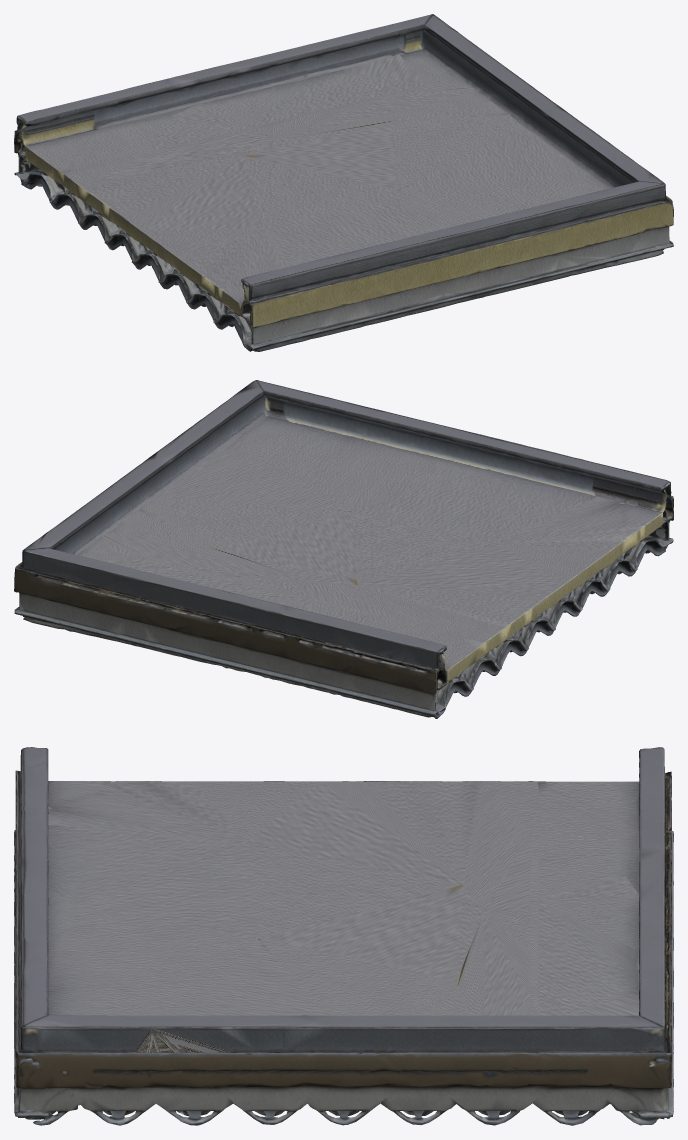
File: Env_RoofPanel.fbx
The picture shows the model from 3 angles, top to bottom: view 1: azimuth 30°, elevation 25°; view 2: azimuth 150°, elevation 25°; view 3: azimuth 270°, elevation 25°; orthographic projection. The views are drawn at different scales.
Visible parts, largest first — view 1: Env_RoofPanel; view 2: Env_RoofPanel; view 3: Env_RoofPanel.
Boxes of the visible parts, x1=… form: Env_RoofPanel: x1=14, y1=14, x2=673, y2=351; Env_RoofPanel: x1=14, y1=380, x2=673, y2=718; Env_RoofPanel: x1=14, y1=747, x2=673, y2=1125.
Size of the model in its own units: 100 by 15.9 by 97.66.
